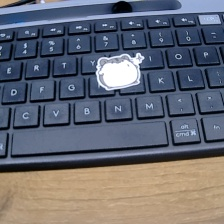mouse: (95, 49, 148, 100)
